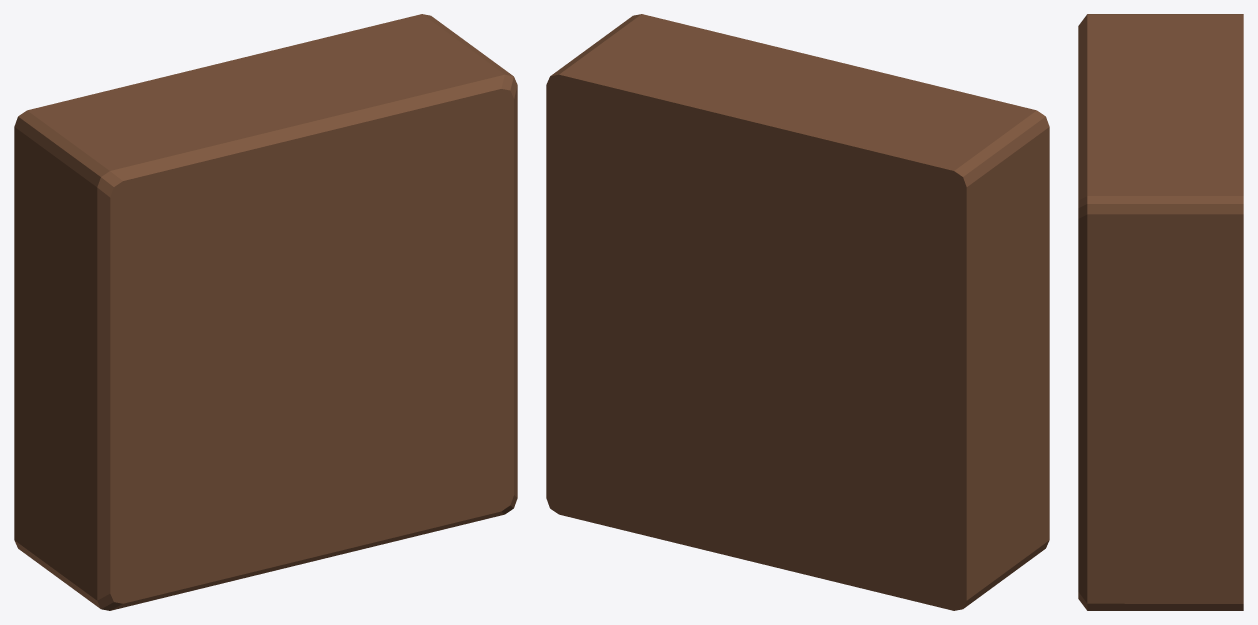
File: cm_cap4.glb
3 views of the same model, side by side, from view 1: azimuth 30°, elevation 25°; view 2: azimuth 150°, elevation 25°; view 3: azimuth 270°, elevation 25° (orthographic). The views are drawn at different scales.
Parts seen in each view (by area): view 1: Cube.115; view 2: Cube.115; view 3: Cube.115.
Boxes of the visible parts, box(x1,y1,x2,y2) form: Cube.115: box(14, 14, 517, 610); Cube.115: box(546, 14, 1049, 610); Cube.115: box(1078, 14, 1243, 610).
Bounding box in the file's own units: 18 × 18 × 6.5.
